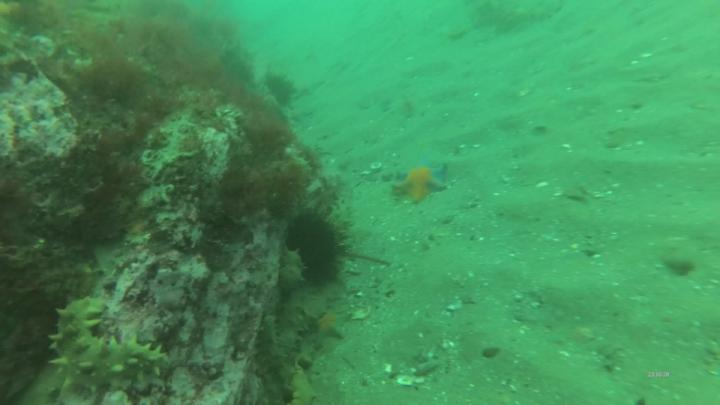echinus: (284, 206, 357, 286)
holothurian: (42, 294, 171, 392), (276, 248, 308, 294), (257, 312, 283, 347)
starfish: (389, 165, 449, 209), (311, 307, 351, 342)
